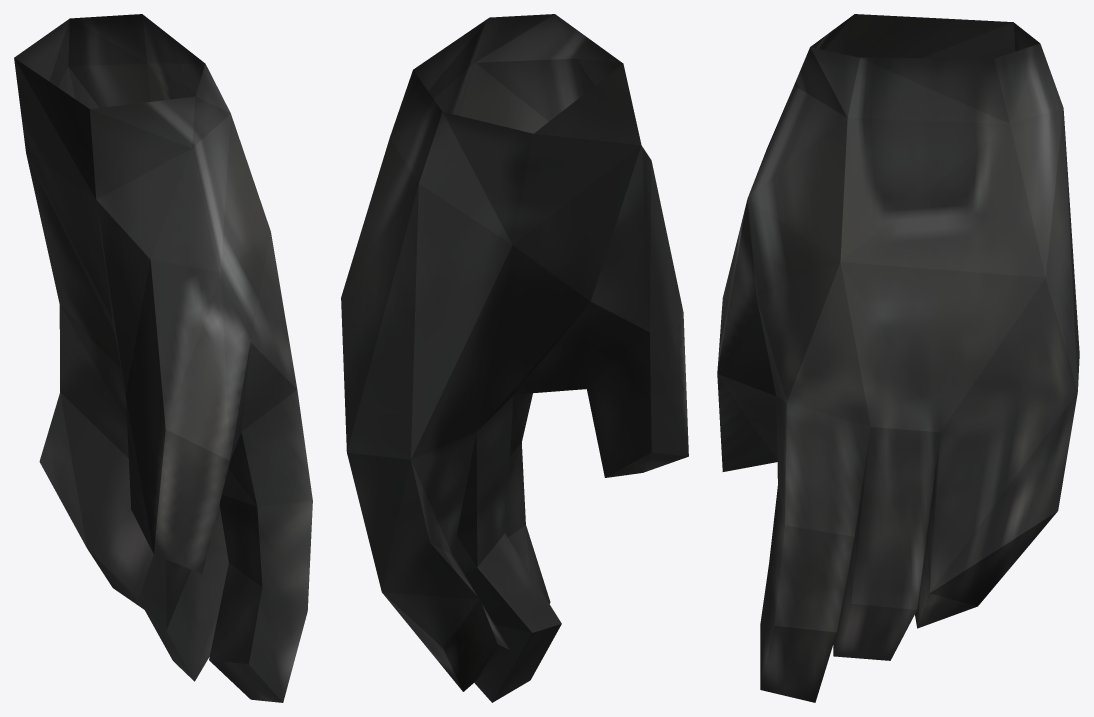
The model's file is Pigma_brazoI.obj.
3 renders of one model, left to right at view 1: azimuth 30°, elevation 25°; view 2: azimuth 150°, elevation 25°; view 3: azimuth 270°, elevation 25°, orthographic. The views are drawn at different scales.
Bounding box in the file's own units: 0.0922 × 0.278 × 0.144.
